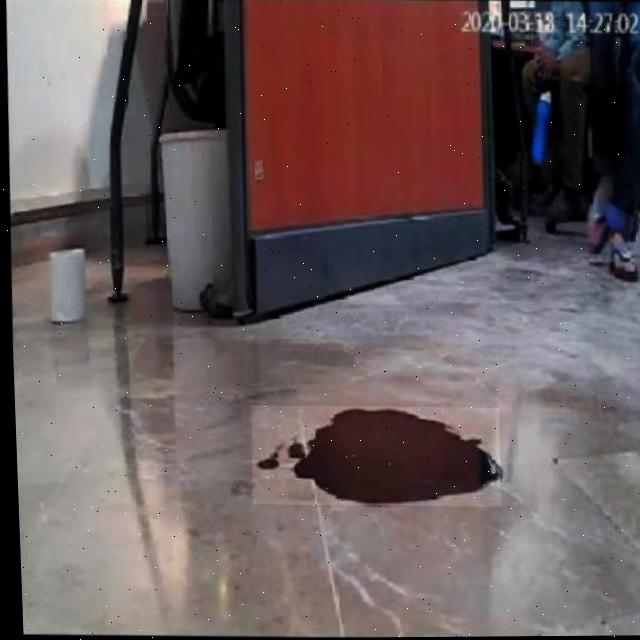spillage: (249, 407, 495, 506)
